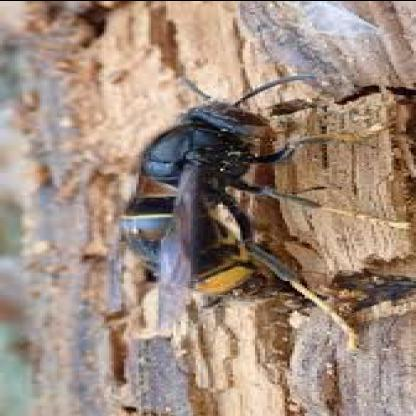asian: (99, 67, 396, 332)
